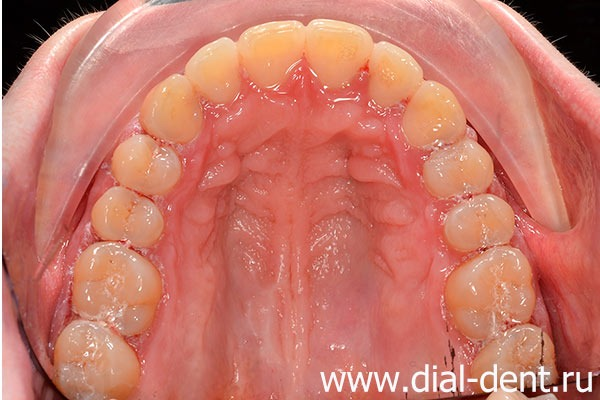UL1BC_healthy: (426, 142, 492, 195)
UL1M_healthy: (448, 248, 534, 325)
UL2BC_healthy: (446, 197, 514, 247)
ULCI_healthy: (307, 19, 373, 86)
ULC_healthy: (405, 82, 464, 146)
ULLI_healthy: (370, 41, 423, 106)
UR1BC_healthy: (111, 136, 180, 193)
UR1M_healthy: (75, 244, 160, 329)
UR2BC_healthy: (93, 188, 163, 243)
UR2M_healthy: (59, 322, 137, 393)
URCI_healthy: (238, 21, 305, 82)
URC_healthy: (142, 73, 201, 140)
URLI_healthy: (187, 38, 238, 99)
